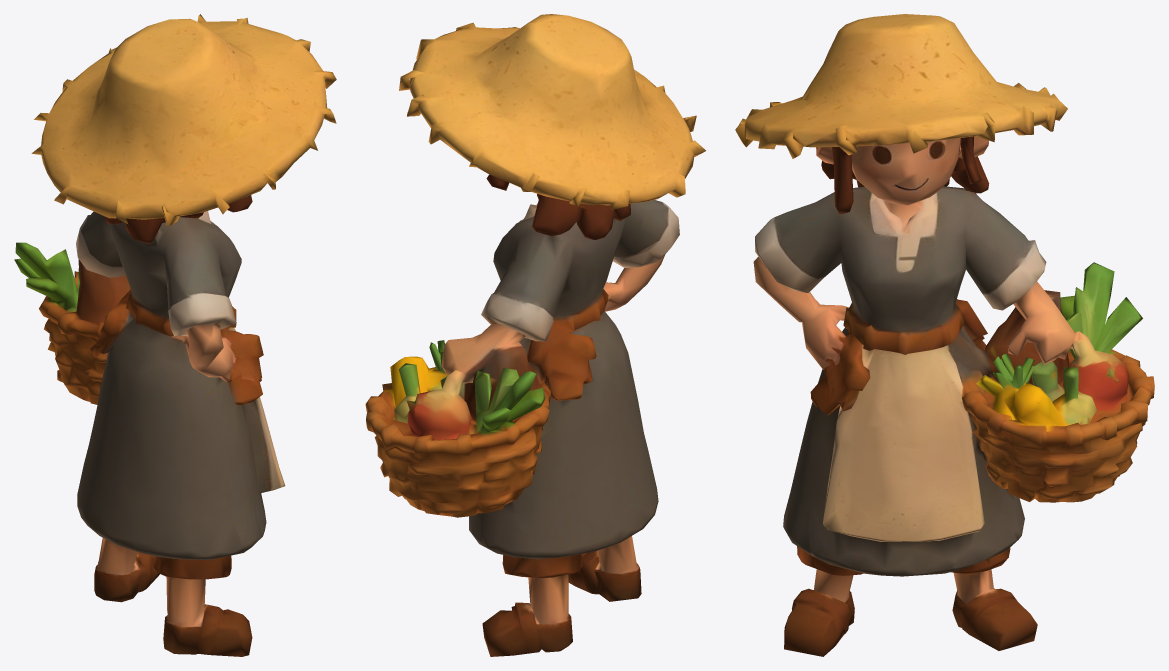
File: villager_farmer.glb
3 views of the same model, side by side, from view 1: azimuth 30°, elevation 25°; view 2: azimuth 150°, elevation 25°; view 3: azimuth 270°, elevation 25° (orthographic). The views are drawn at different scales.
Visible parts, largest first — view 1: tripo_node_d60c1d5c-f4e1-46d2-aaa8-b1a972a4c588; view 2: tripo_node_d60c1d5c-f4e1-46d2-aaa8-b1a972a4c588; view 3: tripo_node_d60c1d5c-f4e1-46d2-aaa8-b1a972a4c588.
Part boxes in pixels (box(x1,y1,x2,y2)): tripo_node_d60c1d5c-f4e1-46d2-aaa8-b1a972a4c588: box(14, 14, 336, 656); tripo_node_d60c1d5c-f4e1-46d2-aaa8-b1a972a4c588: box(365, 14, 705, 656); tripo_node_d60c1d5c-f4e1-46d2-aaa8-b1a972a4c588: box(735, 14, 1154, 656).
Bounding box in the file's own units: 0.4647 × 1 × 0.6073.
Materials: 1 (1 with a texture image).
